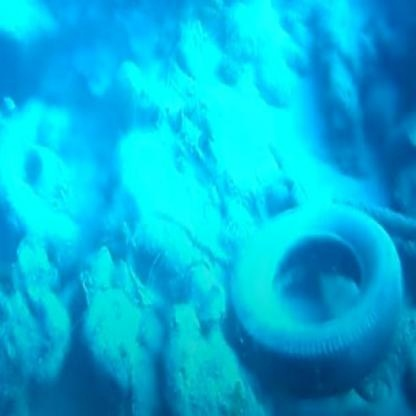tire: (222, 206, 416, 363)
